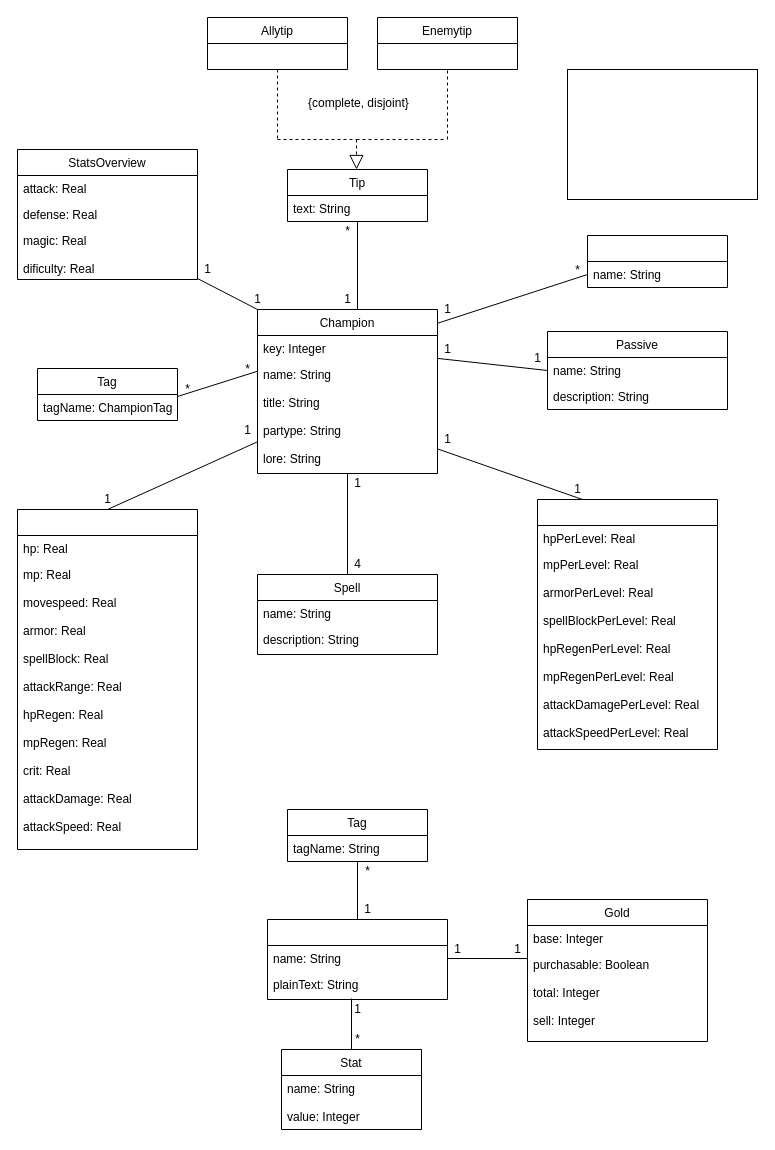
This 775x1150 diagram has some shape labels left out. Here are the shapes that lost their labels. From the top down, the box of each, then its label:
(566, 68, 758, 200): <<enumeration>> ChampionTag Assassin Fighter Mage Marksman Support
(586, 234, 728, 288): Skin
(536, 498, 718, 750): StatsPerLevel
(16, 508, 198, 850): BaseStats
(266, 918, 448, 1000): Item
